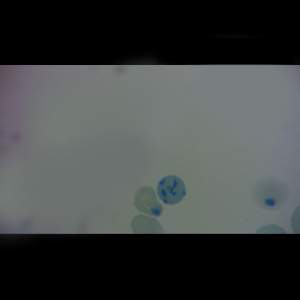aggregate reticulocyte: (155, 175, 187, 206)
erythrocyte: (133, 182, 165, 214)
